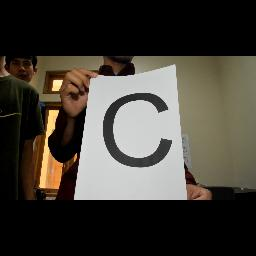c: (102, 89, 174, 167)
